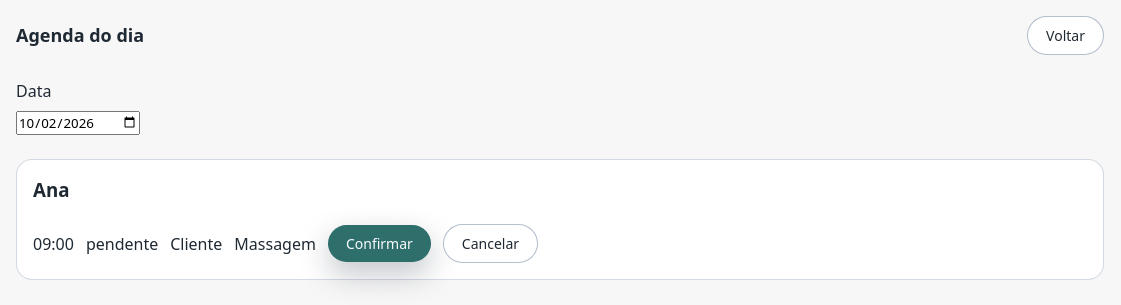
Test case: agenda_cancel_drops_booking › agenda_cancel_drops_booking
Click the button "Cancelar" at (490, 244), box x1=443 y1=224 x2=538 y2=263
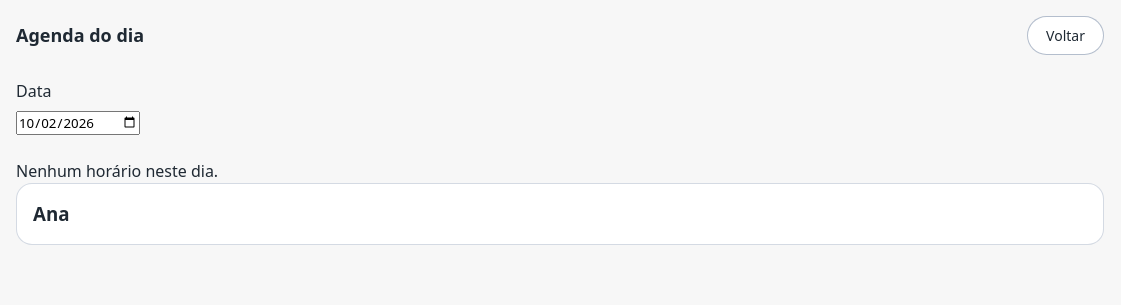
Expected: the text "09:00" is gone
